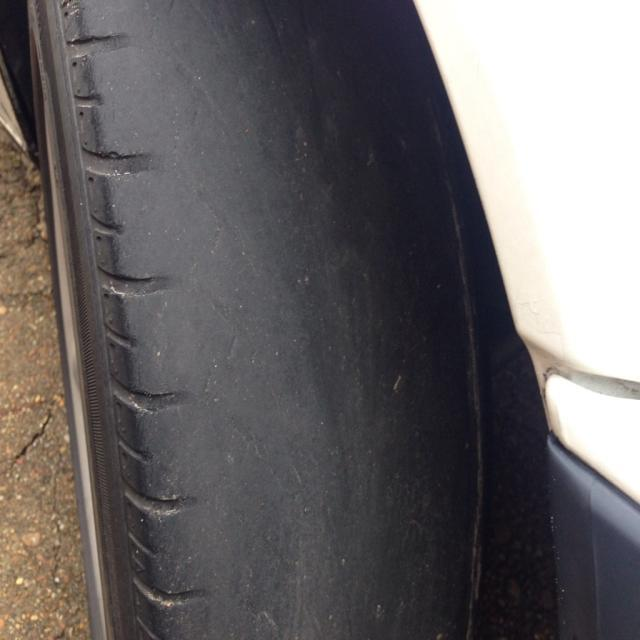Flat spots: (153, 0, 411, 631)
